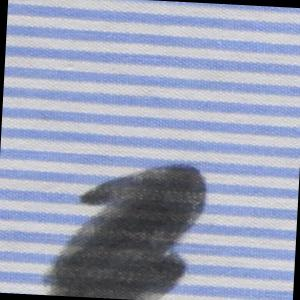Stain: (38, 151, 212, 300)
